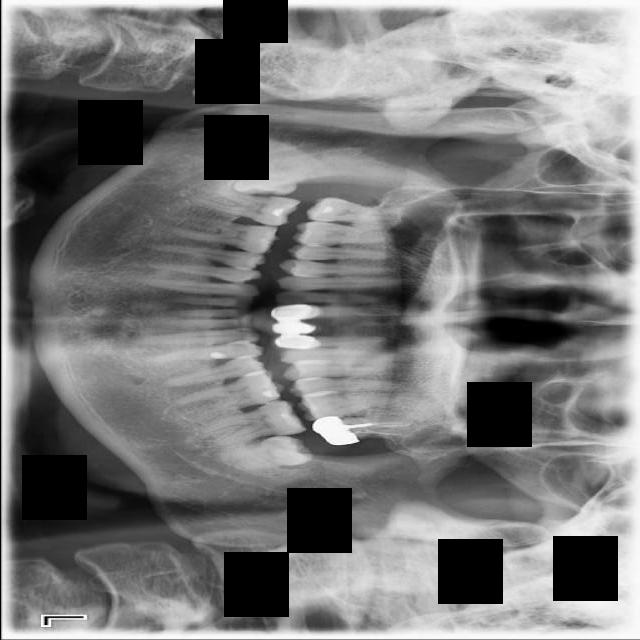52: (307, 406, 360, 461), (264, 303, 322, 352), (226, 367, 285, 411), (247, 194, 302, 229), (306, 196, 355, 222), (212, 339, 264, 359)
73: (339, 412, 418, 443), (55, 598, 70, 606)
BioHorizons Implant: (309, 413, 419, 446)
Biomet 3i Implant: (217, 430, 316, 476)
Blue Sky Bio Implant: (201, 397, 306, 449)
Caries: (305, 195, 413, 227)
Implant: (192, 185, 300, 230)
Keystone Dental Implant: (232, 158, 306, 200)
